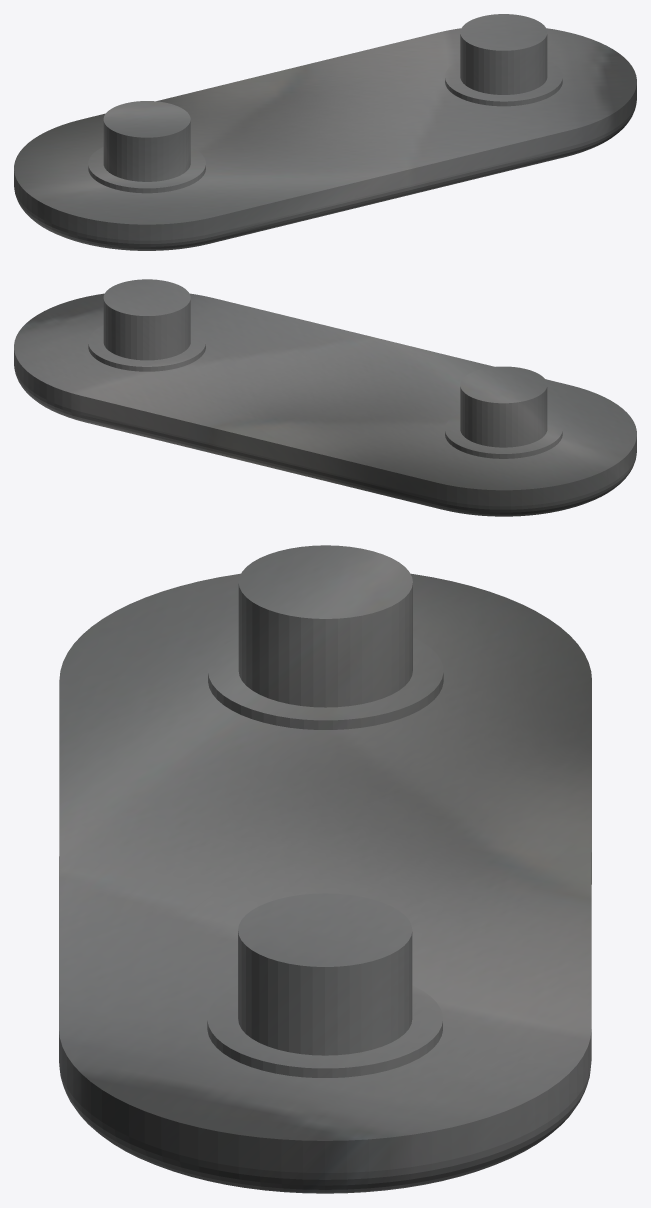
The picture shows the model from 3 angles, top to bottom: view 1: azimuth 30°, elevation 25°; view 2: azimuth 150°, elevation 25°; view 3: azimuth 270°, elevation 25°; orthographic projection. The views are drawn at different scales.
Visible parts, largest first — view 1: top_casing; view 2: top_casing; view 3: top_casing.
Part boxes in pixels (x1=…): top_casing: x1=14, y1=14, x2=636, y2=250; top_casing: x1=14, y1=279, x2=636, y2=516; top_casing: x1=59, y1=545, x2=591, y2=1193.
Size of the model in its own units: 0.0382 by 0.015 by 0.00505.
Materials: 1 (1 with a texture image).
